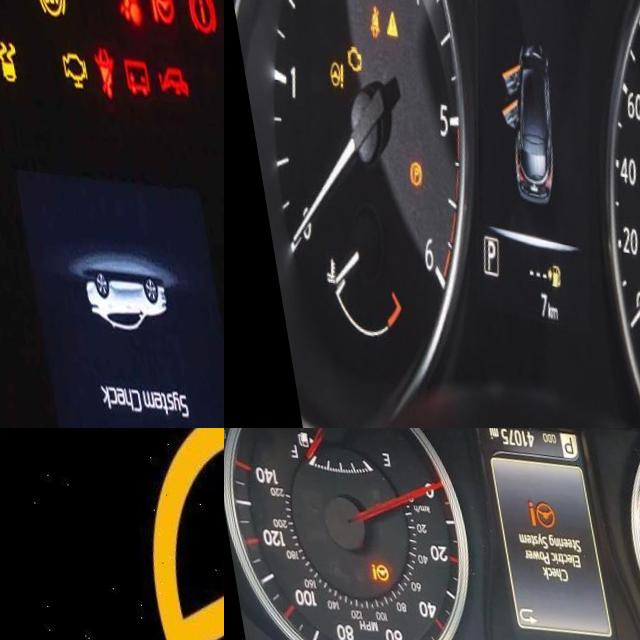Electronic Power Steering: (515, 487, 559, 524), (358, 554, 385, 583), (318, 57, 338, 89), (146, 0, 176, 13)
Electronic Power Steering Warning: (119, 428, 224, 640)
Seat Belt: (86, 38, 117, 92), (360, 1, 376, 34)
